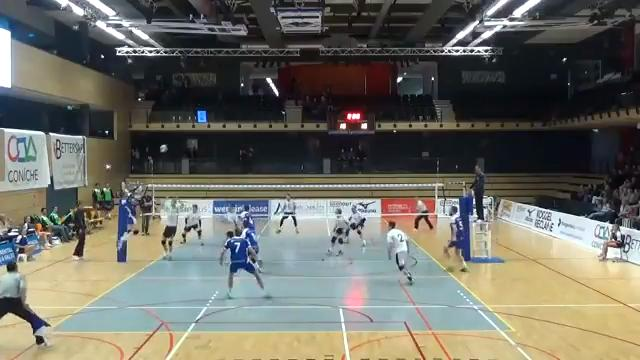Attack: (112, 182, 144, 249)
Player: (219, 231, 268, 297), (387, 221, 412, 284), (444, 206, 467, 271), (240, 204, 261, 271), (326, 208, 348, 256), (241, 219, 261, 271), (161, 199, 178, 259), (276, 193, 298, 233), (182, 204, 203, 245), (346, 205, 365, 246), (226, 206, 238, 229)
ball: (159, 144, 169, 154)
